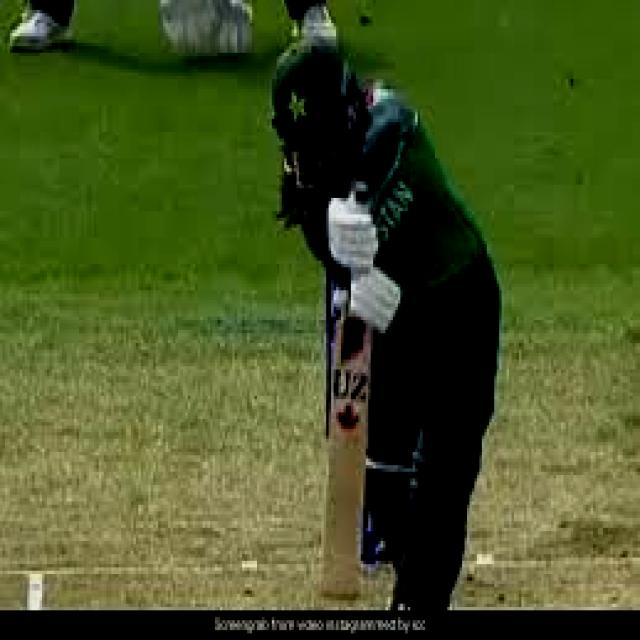toe: (316, 517, 367, 603)
